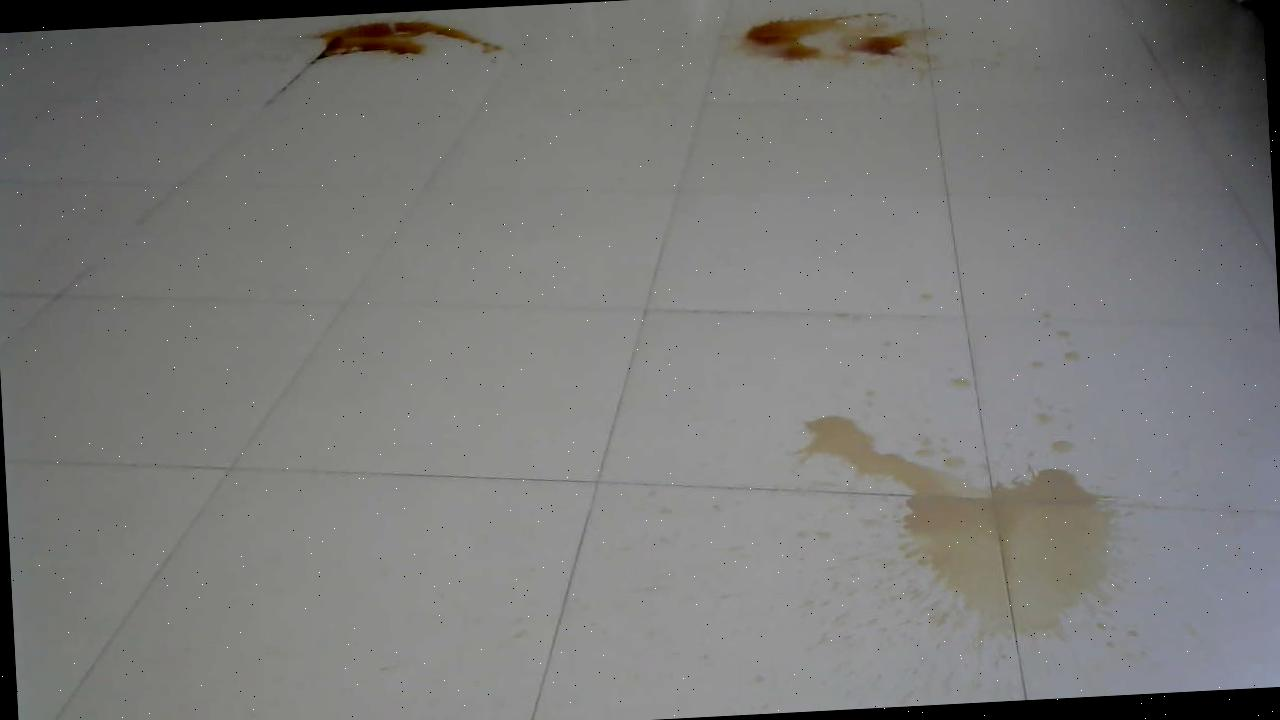dirty_floor: (753, 389, 1154, 677), (717, 0, 956, 101), (292, 9, 509, 92)
